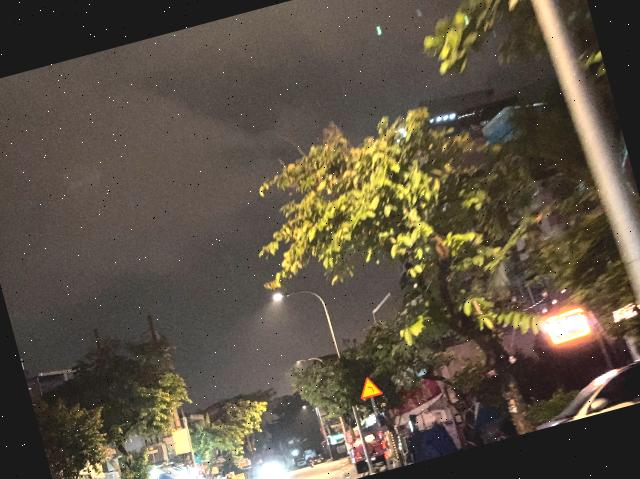cho-ngoat-nguy-hiem-ben-trai: (356, 374, 383, 400)
